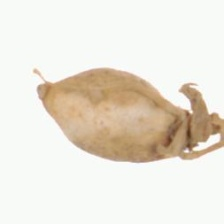L1: (179, 106, 217, 149), (36, 77, 60, 107)
L2: (37, 67, 217, 164)
